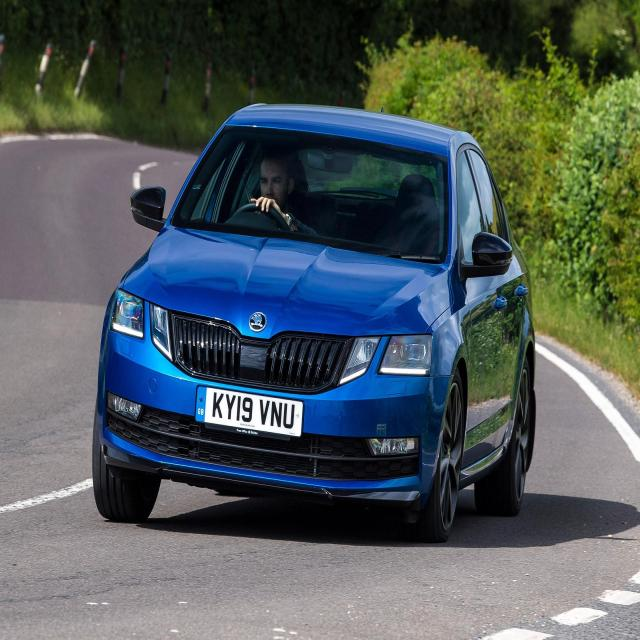number_plate: (206, 386, 304, 440)
